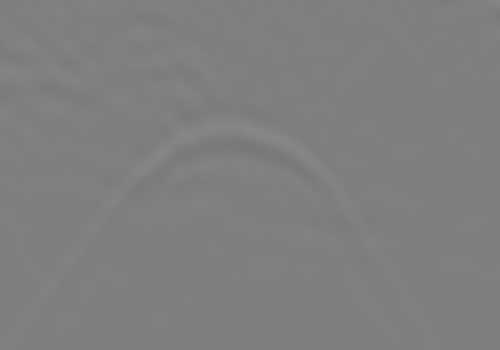hyperbola: (53, 114, 434, 343)
